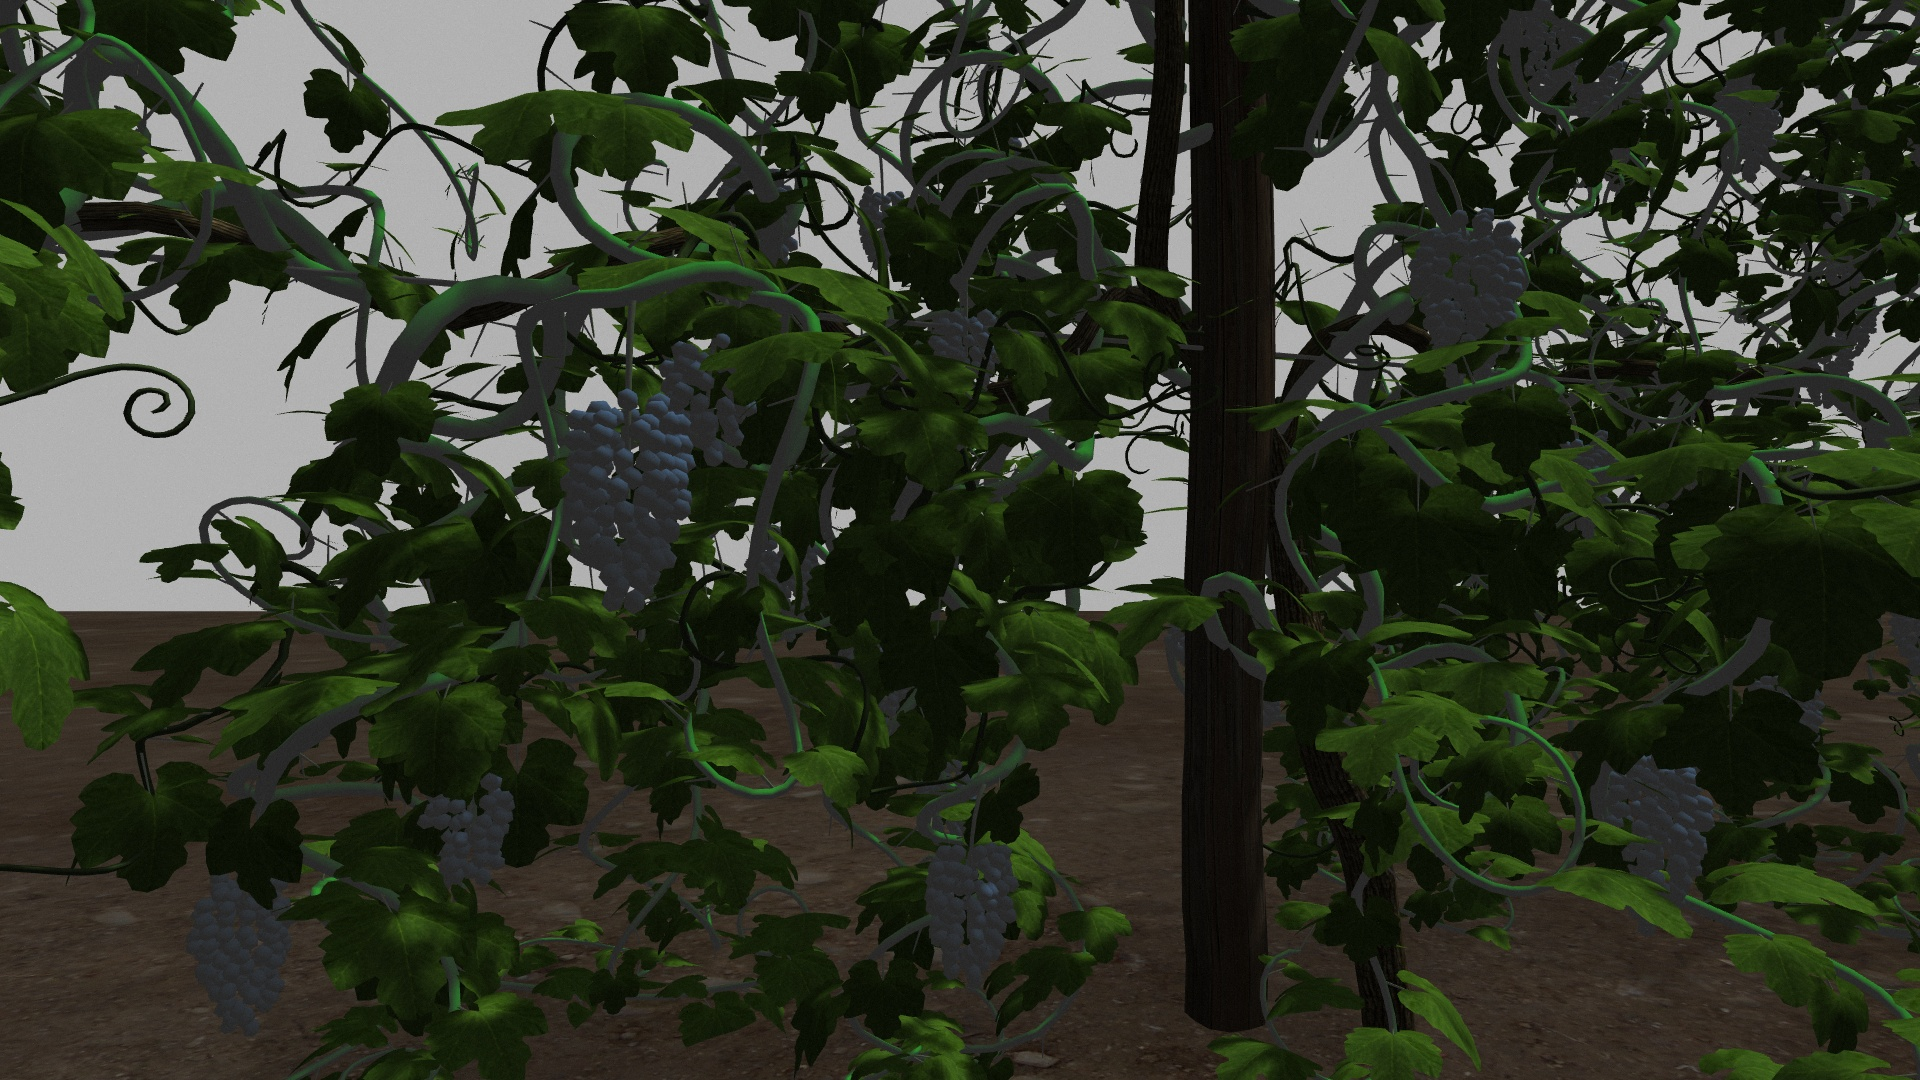grape: (556, 392, 695, 611), (1410, 206, 1527, 356), (186, 880, 295, 1039), (1600, 753, 1716, 899), (922, 843, 1019, 992), (667, 336, 761, 462), (417, 779, 520, 884), (1716, 73, 1782, 185), (928, 306, 1004, 385)
